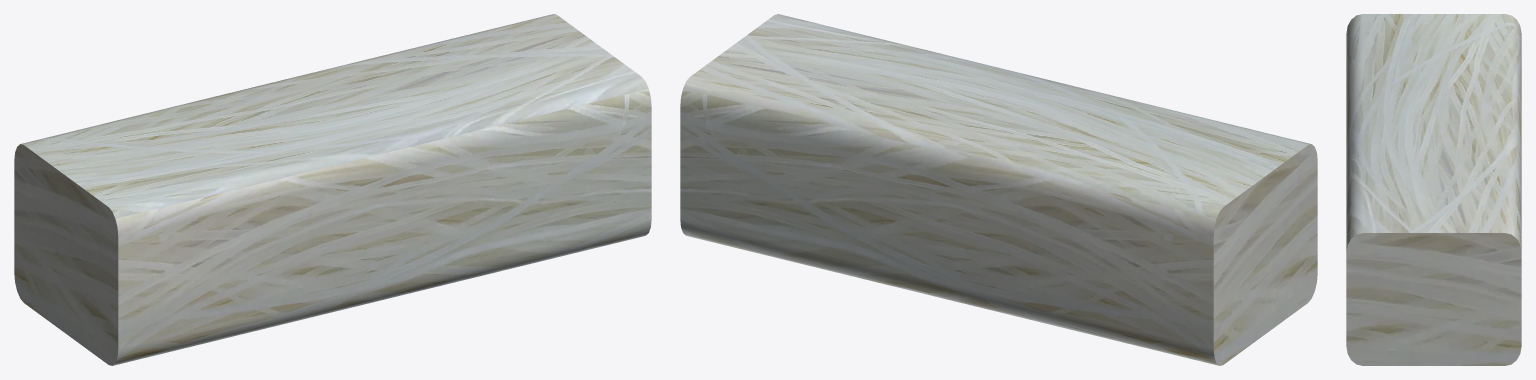
Rendered from bun_la.fbx.
The picture shows the model from 3 angles, left to right: view 1: azimuth 30°, elevation 25°; view 2: azimuth 150°, elevation 25°; view 3: azimuth 270°, elevation 25°; orthographic projection. The views are drawn at different scales.
Parts seen in each view (by area): view 1: bun la; view 2: bun la; view 3: bun la.
Boxes of the visible parts, bbox=[...] form: bun la: bbox=[14, 14, 651, 365]; bun la: bbox=[680, 14, 1317, 365]; bun la: bbox=[1346, 14, 1521, 365].
Size of the model in its own units: 10.63 by 3.01 by 3.59.
Materials: 1 (1 with a texture image).
